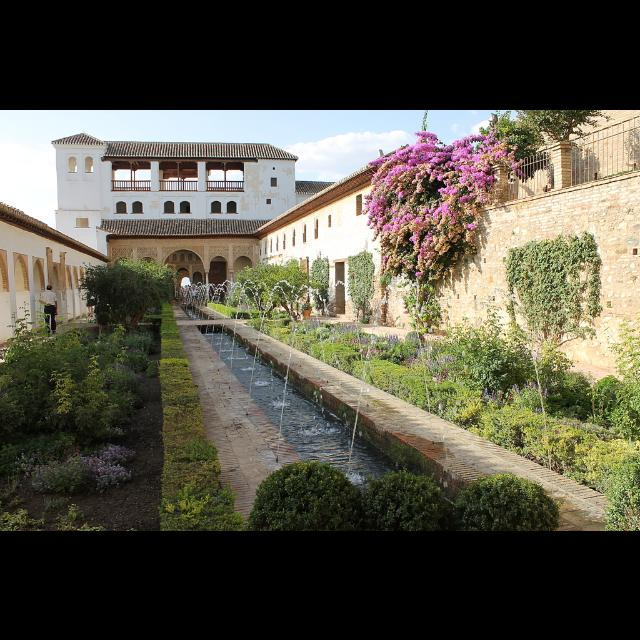Flower: (359, 130, 526, 282), (349, 333, 545, 411), (12, 444, 134, 484)
